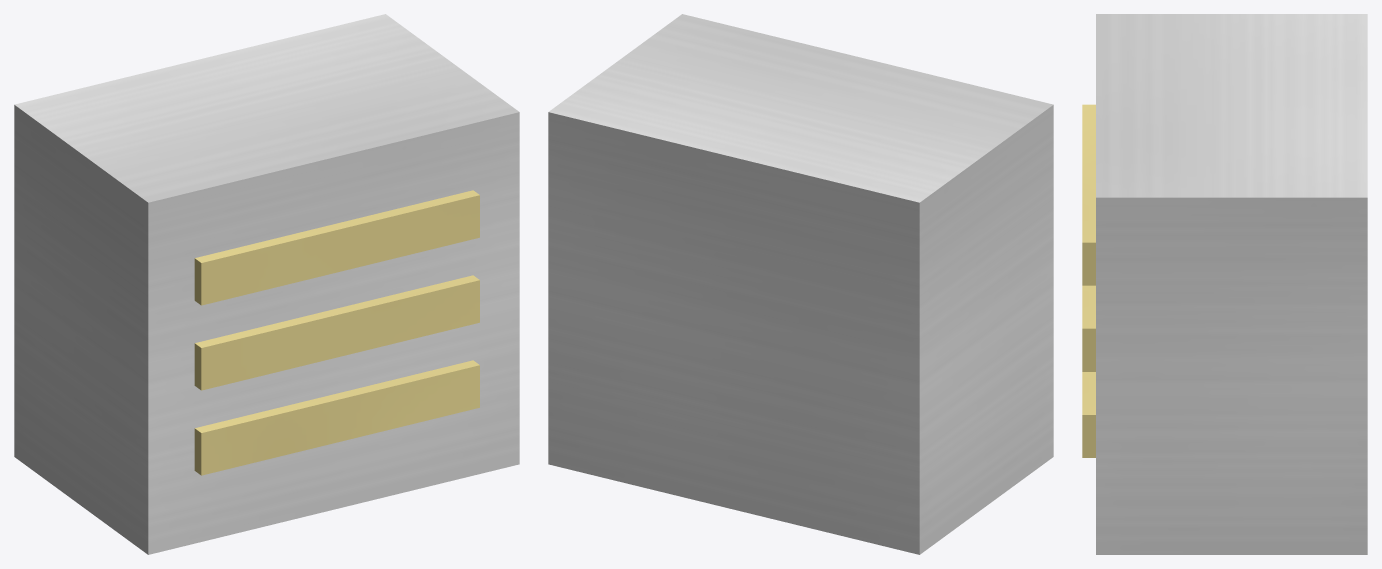
Rendered from heater.obj.
3 renders of one model, left to right at view 1: azimuth 30°, elevation 25°; view 2: azimuth 150°, elevation 25°; view 3: azimuth 270°, elevation 25°, orthographic.
Visible parts, largest first — view 1: heater; view 2: heater; view 3: heater.
Boxes of the visible parts, x1,y1,x2,y2 form: heater: (14, 14, 519, 554); heater: (548, 14, 1053, 554); heater: (1082, 14, 1367, 554).
Bounding box in the file's own units: 0.64 × 0.58 × 0.42.
